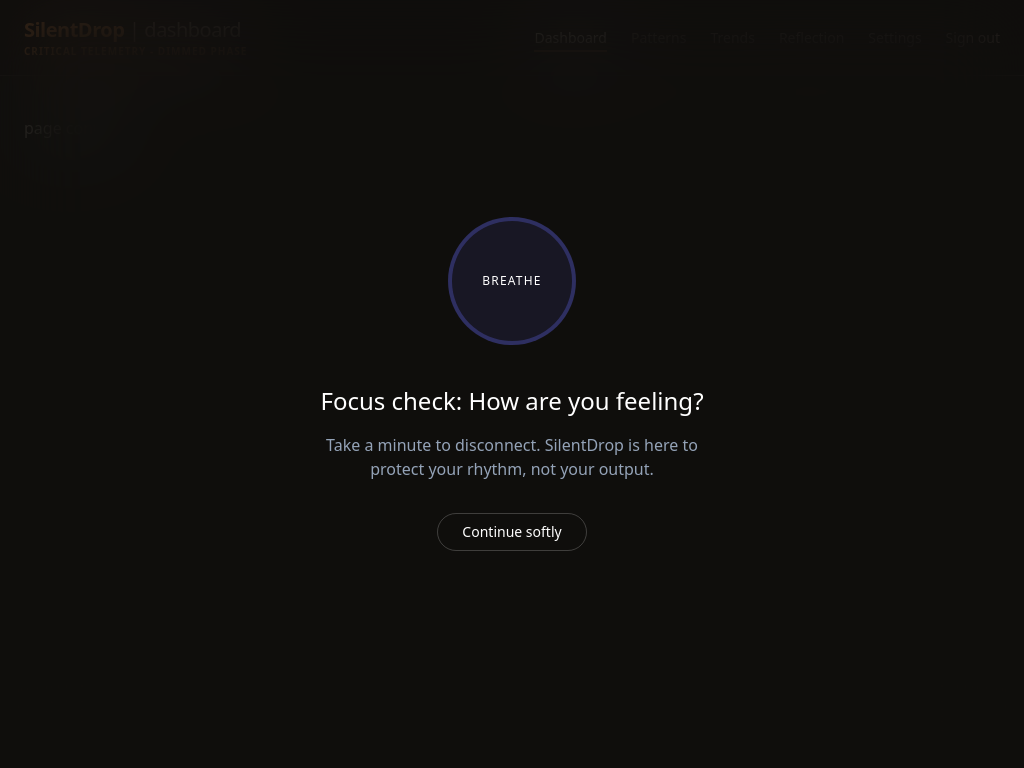
PageShell — Breathe Overlay (risk ≥ 85) › "Continue softly" button closes the breathe overlay
The width and height of the screenshot is (1024, 768).
Check: the text "Breathe" is shown, box left=482, top=273, right=542, bottom=289
Step 1. Click the button "Continue softly" → (512, 532), box left=437, top=513, right=587, bottom=551
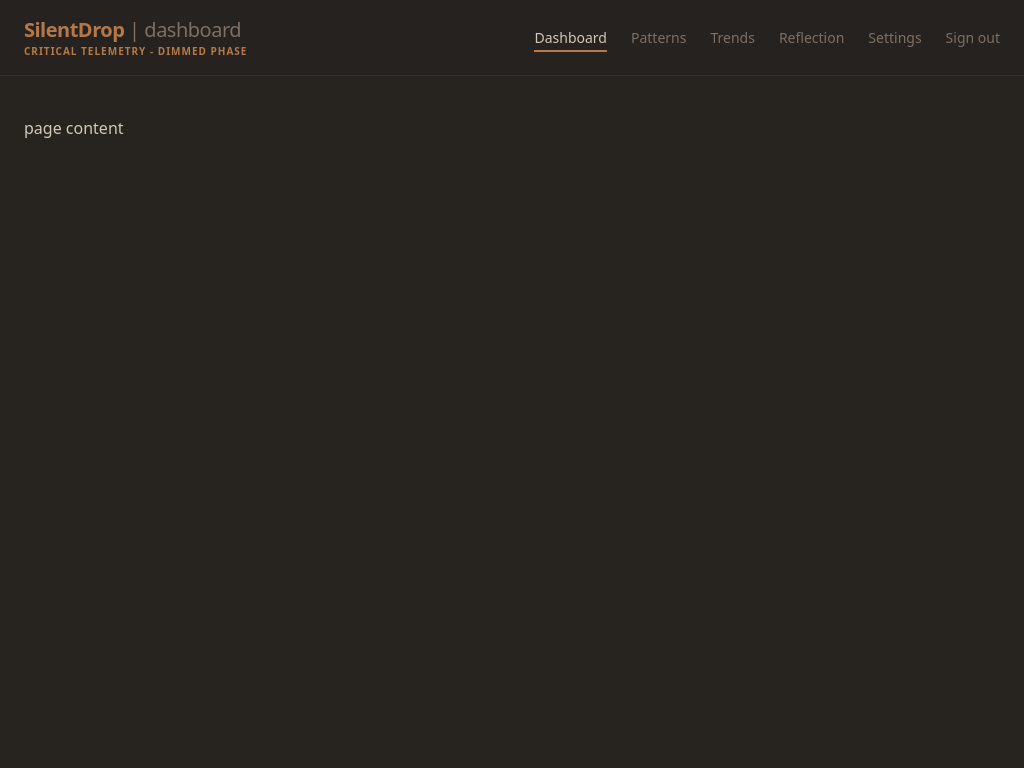
Check: the text "Breathe" is gone
